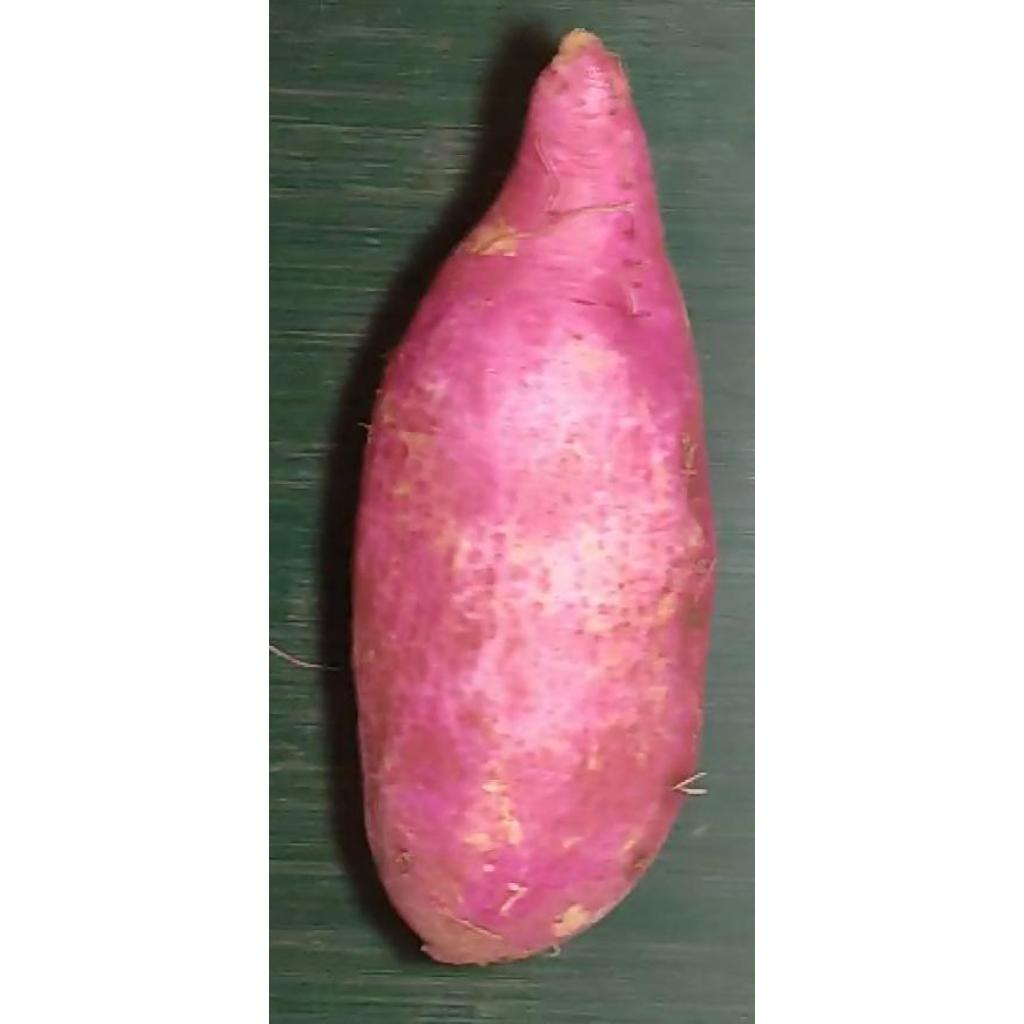Sweet Potato: (350, 28, 718, 970)
